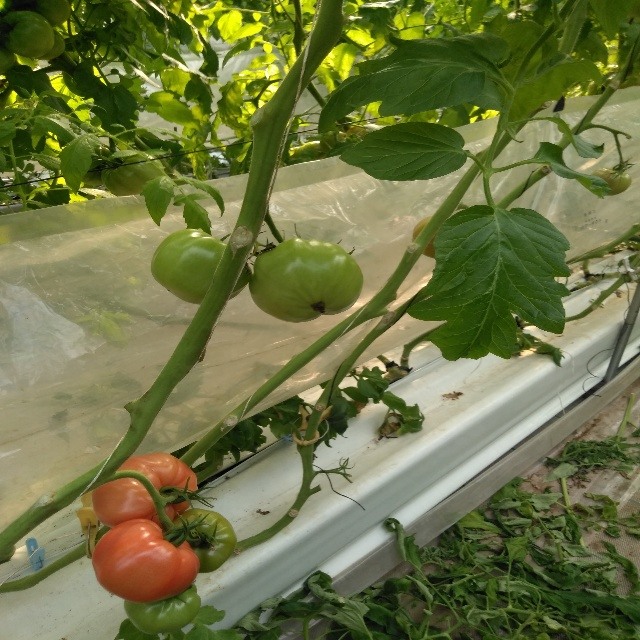b_fully_ripened: (91, 517, 200, 603)
b_green: (249, 238, 363, 324), (151, 229, 253, 306), (163, 507, 238, 574), (124, 584, 202, 635), (99, 151, 165, 197), (0, 11, 53, 58), (23, 0, 71, 27), (590, 167, 632, 197)
b_half_ripened: (92, 452, 198, 529)
